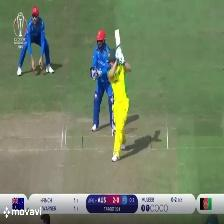batsman: (107, 30, 134, 163)
